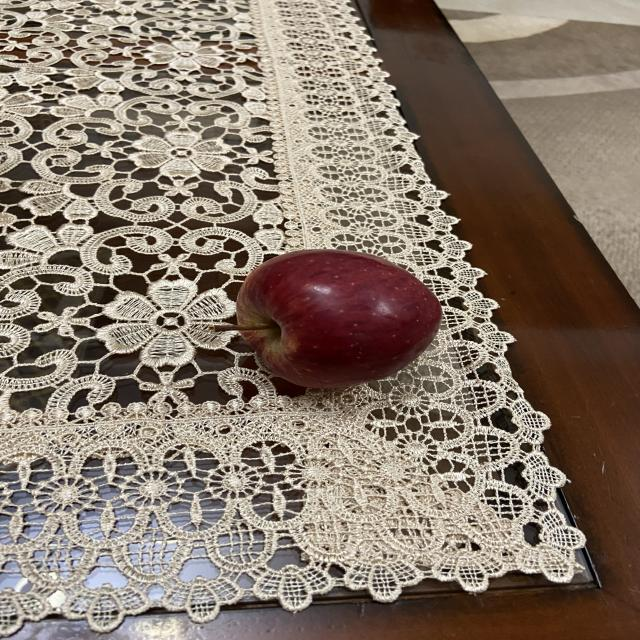apple: (210, 249, 442, 386)
